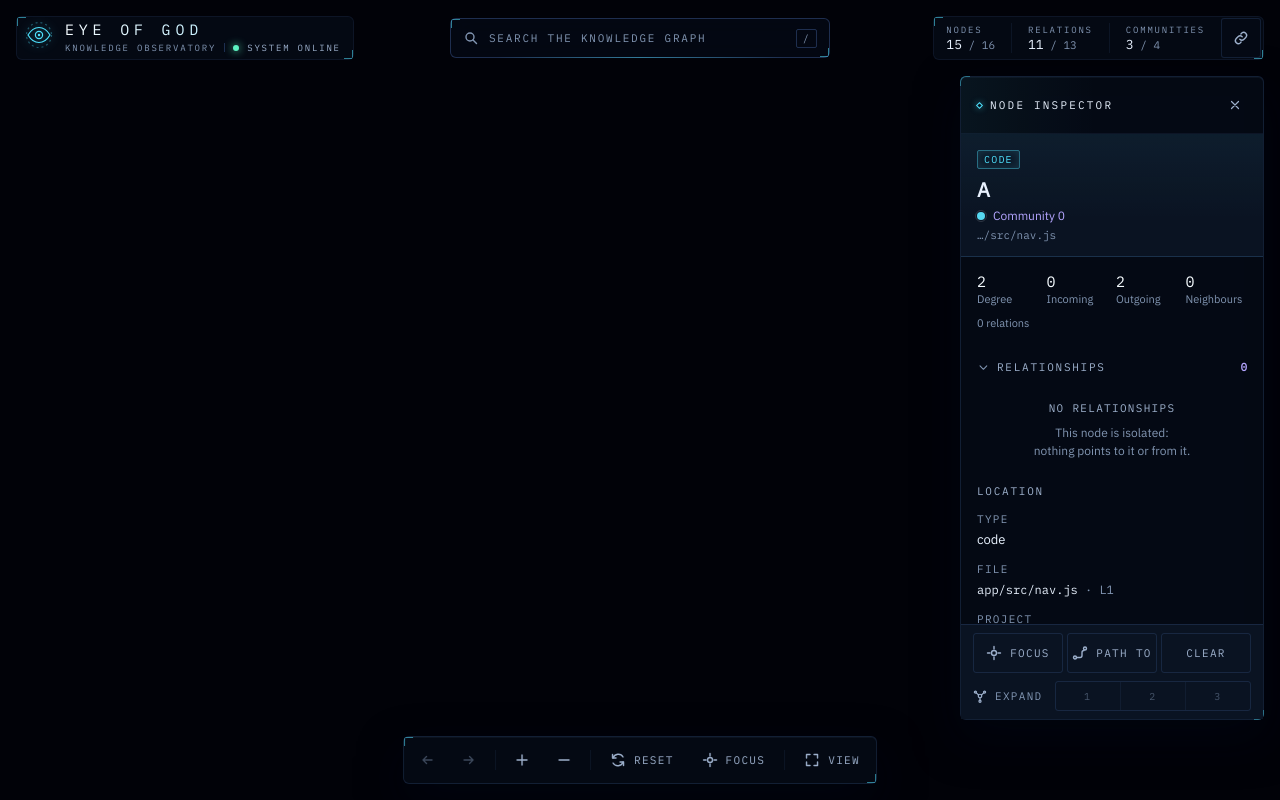
Scenario: navigation in the interface › picking the origin itself is handled: one node, nothing to walk
This screenshot has width=1280, height=800.
Click the button "Path to".
click(1112, 653)  # box x1=1067 y1=633 x2=1157 y2=673
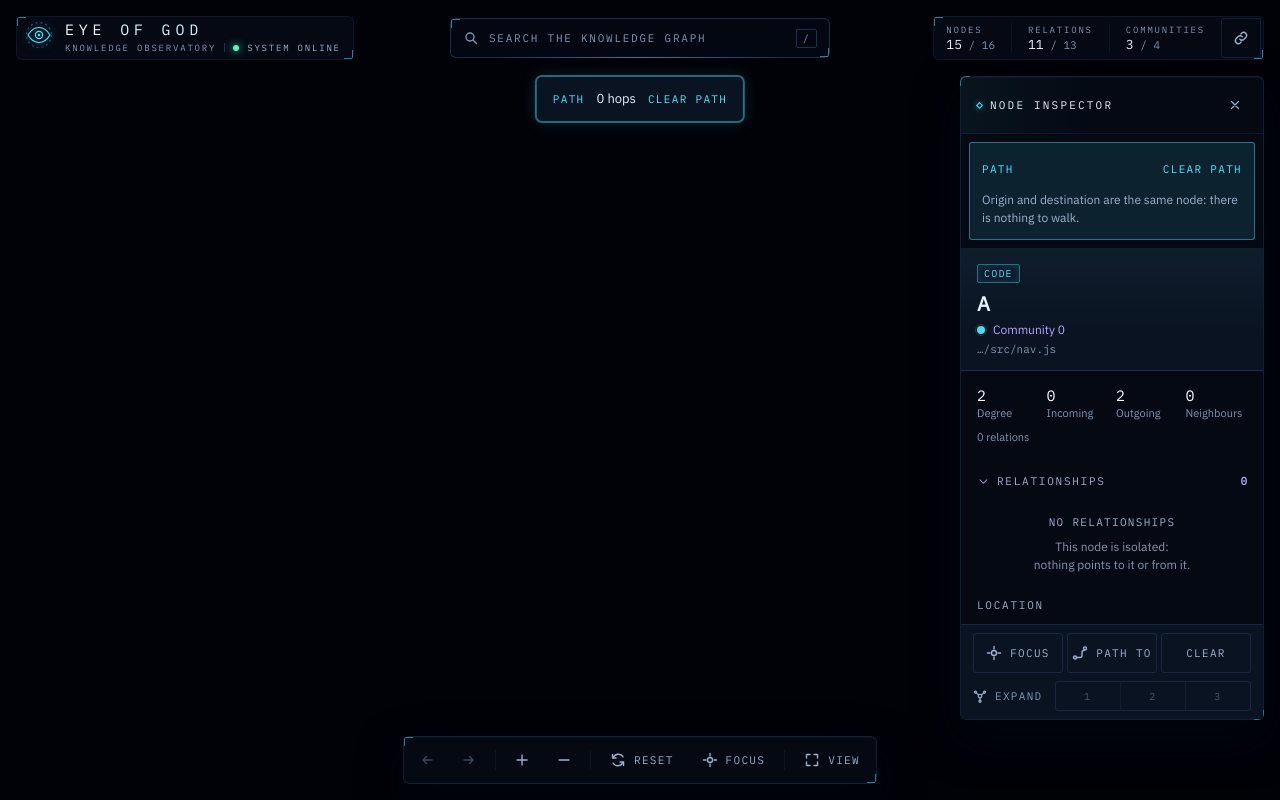
Expected: the text "Origin and destination are the same node" is shown, x1=982 y1=192 x2=1238 y2=225
